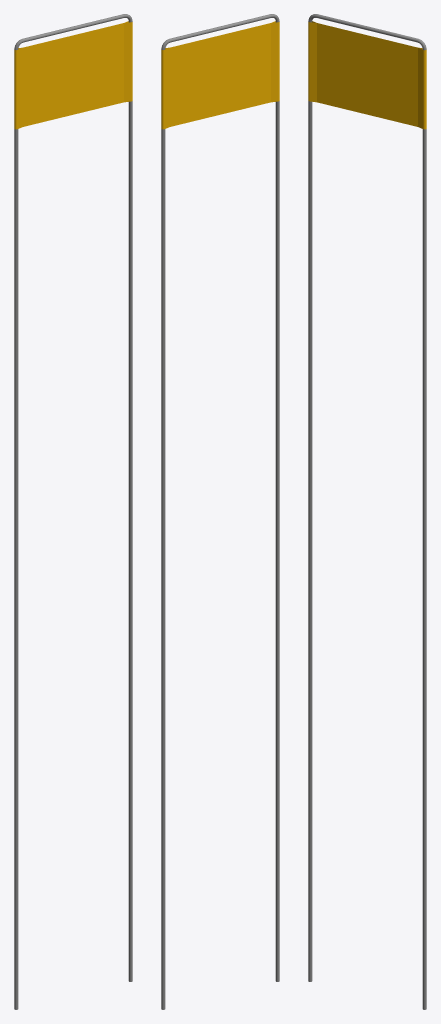
The model's file is marker2_orange_LOD0.gltf.
3 renders of one model, left to right at view 1: azimuth 30°, elevation 25°; view 2: azimuth 210°, elevation 25°; view 3: azimuth 330°, elevation 25°, orthographic.
Parts seen in each view (by area): view 1: Loft001; view 2: Loft001; view 3: Loft001.
Part boxes in pixels (x1,y1,x2,y2): Loft001: (14, 14, 132, 1009); Loft001: (161, 14, 279, 1009); Loft001: (308, 14, 426, 1009).
Size of the model in its own units: 0.701 by 5.5 by 0.0216.
